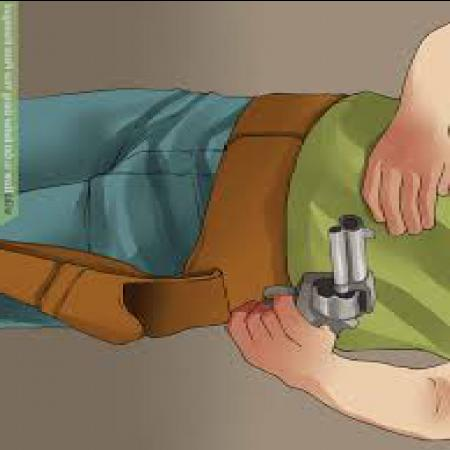Pistol: (265, 212, 384, 344)
